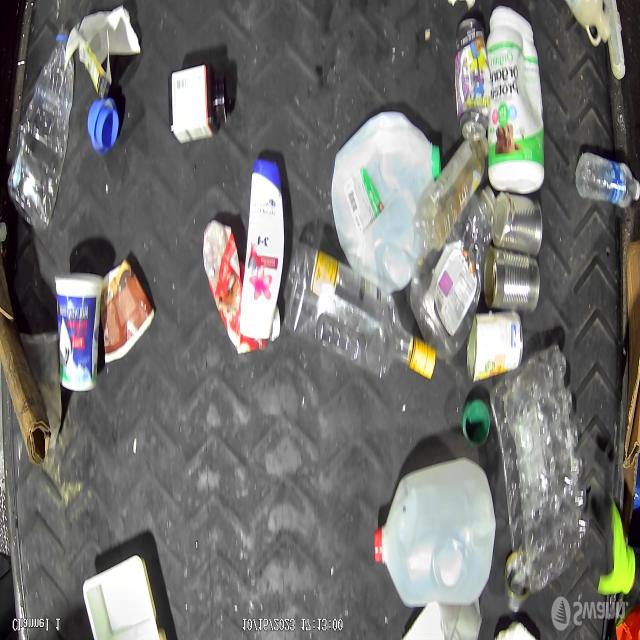can: (454, 21, 488, 143), (464, 313, 522, 384), (484, 247, 539, 318), (492, 192, 545, 252)
milk_jug: (376, 460, 498, 605), (336, 114, 439, 285)
plastic_bottle: (284, 243, 436, 381), (409, 185, 496, 361), (6, 34, 73, 226), (413, 138, 489, 253), (572, 155, 638, 204)
